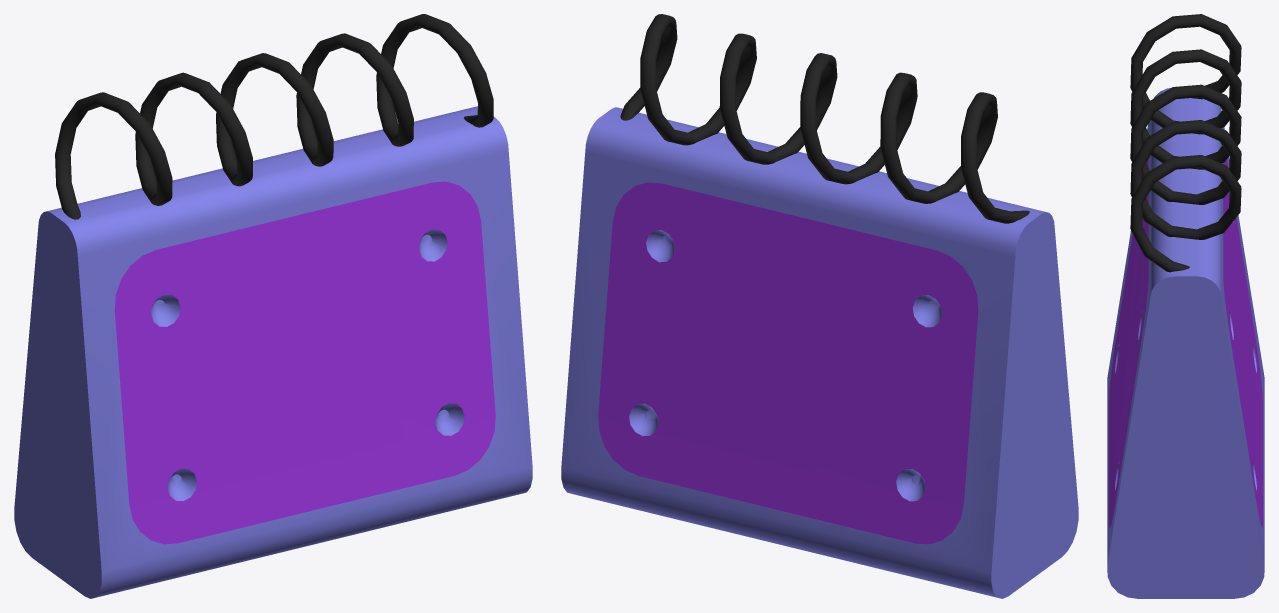
File: Fence.fbx
The picture shows the model from 3 angles, left to right: view 1: azimuth 30°, elevation 25°; view 2: azimuth 150°, elevation 25°; view 3: azimuth 270°, elevation 25°; orthographic projection. The views are drawn at different scales.
Parts seen in each view (by area): view 1: Concrete Wall.001; view 2: Concrete Wall.001; view 3: Concrete Wall.001.
Part boxes in pixels (x1,y1,x2,y2): Concrete Wall.001: (14,14,532,598); Concrete Wall.001: (561,14,1078,598); Concrete Wall.001: (1107,14,1264,598).
Bounding box in the file's own units: 381 × 394 × 134.
